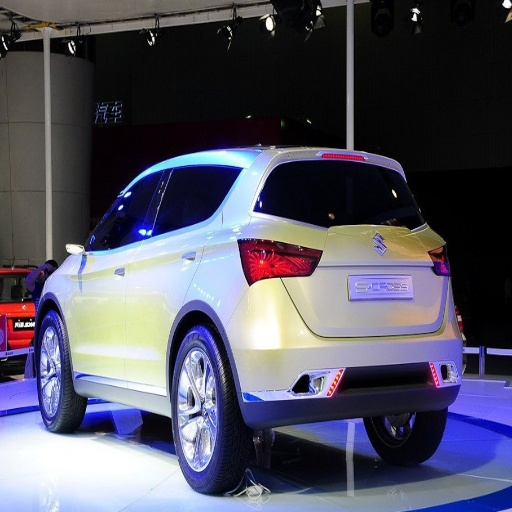back_bumper: (220, 279, 463, 434)
back_glass: (255, 162, 420, 227)
back_left_door: (127, 170, 201, 384)
tailgate: (274, 221, 420, 332)
trunk: (272, 229, 442, 336)
